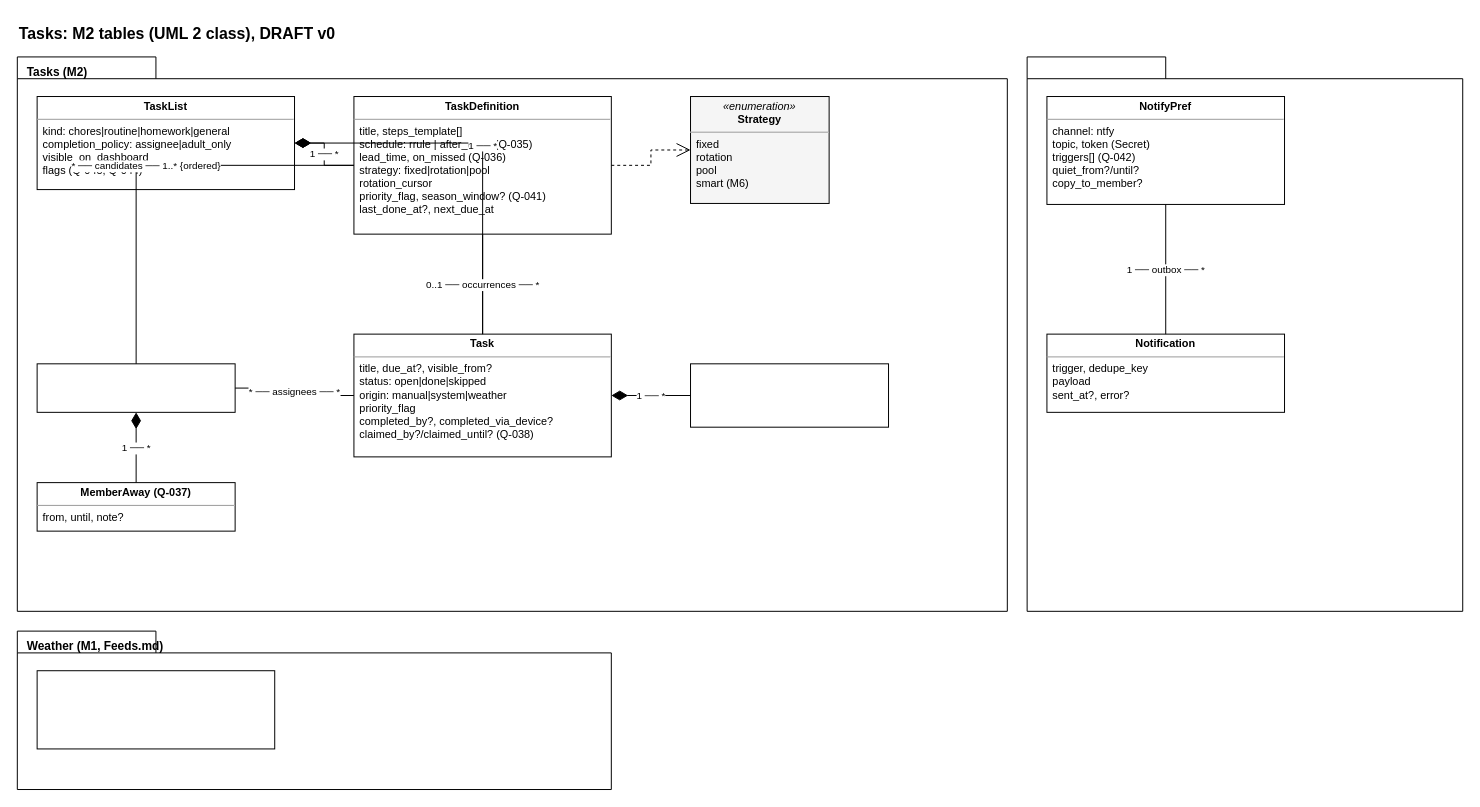
This 1480x807 diagram has some shape labels left out. The box of each missing label's shape, as (x1, y1, x2, y2) in pixels:
Member display_name, role: (36, 363, 235, 412)
Notify (M2): (1026, 56, 1463, 611)
TaskStep ord, text done_at?, done_by?: (690, 363, 889, 427)
WeatherRule action: alert|task task_definition? task_mode (Q-041): (36, 670, 275, 749)
